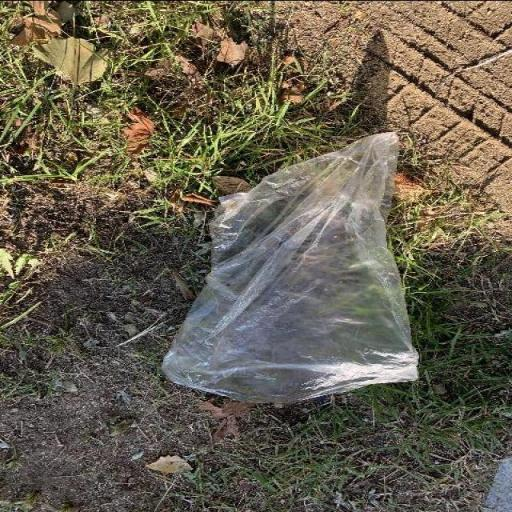plastic-bag: (156, 128, 423, 406)
